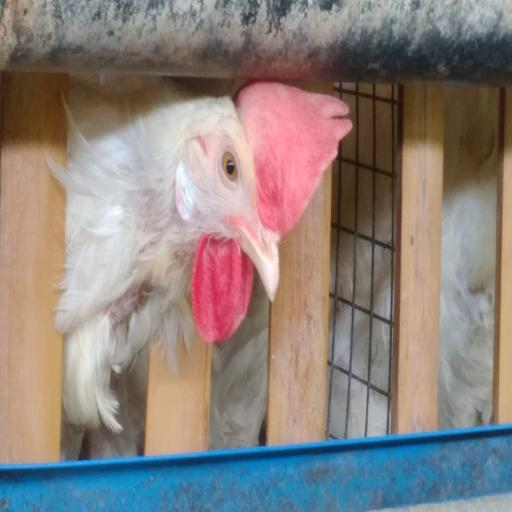healthy: (194, 104, 298, 294)
